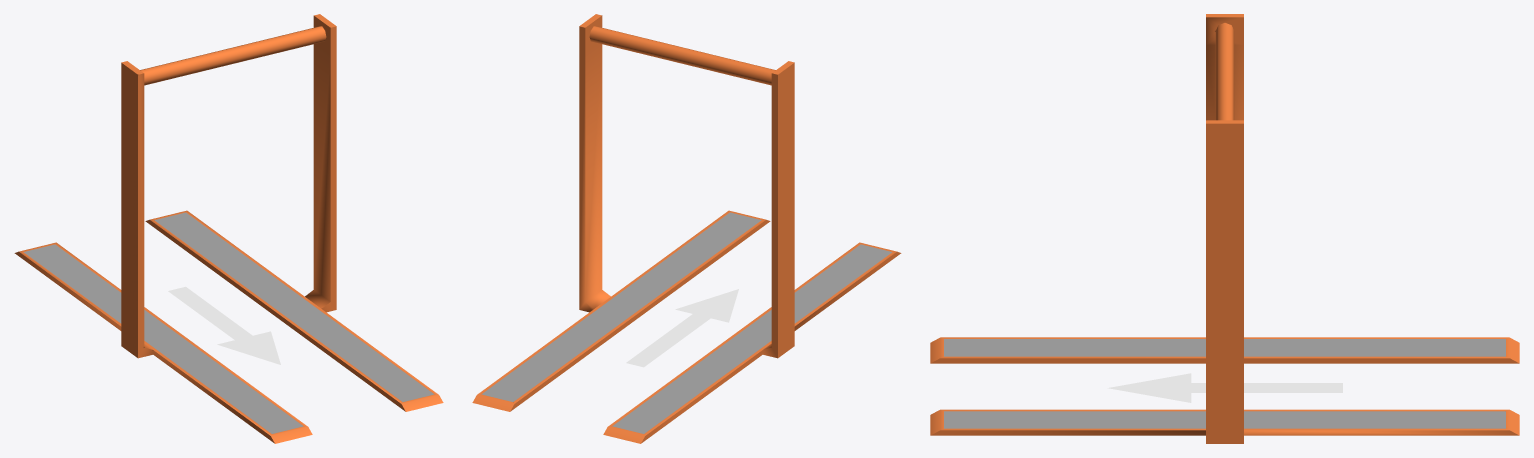
File: car_lift.glb
3 views of the same model, side by side, from view 1: azimuth 30°, elevation 25°; view 2: azimuth 150°, elevation 25°; view 3: azimuth 270°, elevation 25° (orthographic). The views are drawn at different scales.
Parts seen in each view (by area): view 1: CarLift; view 2: CarLift; view 3: CarLift.
Part boxes in pixels (box(x1,y1,x2,y2)): CarLift: box(14, 14, 443, 443); CarLift: box(472, 14, 901, 443); CarLift: box(930, 14, 1519, 443).
Bounding box in the file's own units: 2.2 × 3 × 5.
1 material, 1 textured.
